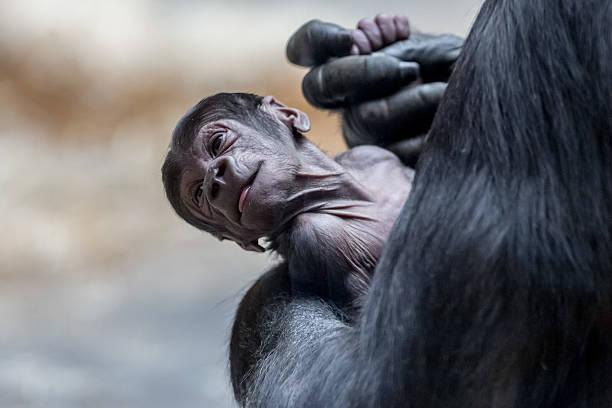gorille_Autres: (123, 73, 399, 289)
